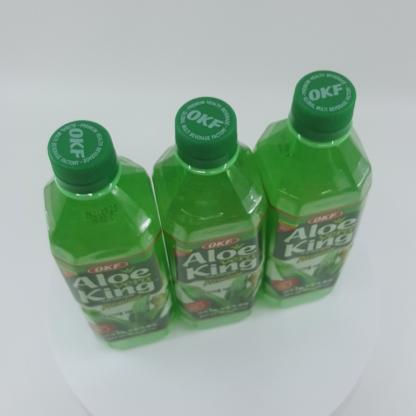------------500ml: (44, 120, 177, 350), (252, 71, 372, 308), (152, 97, 268, 329)
